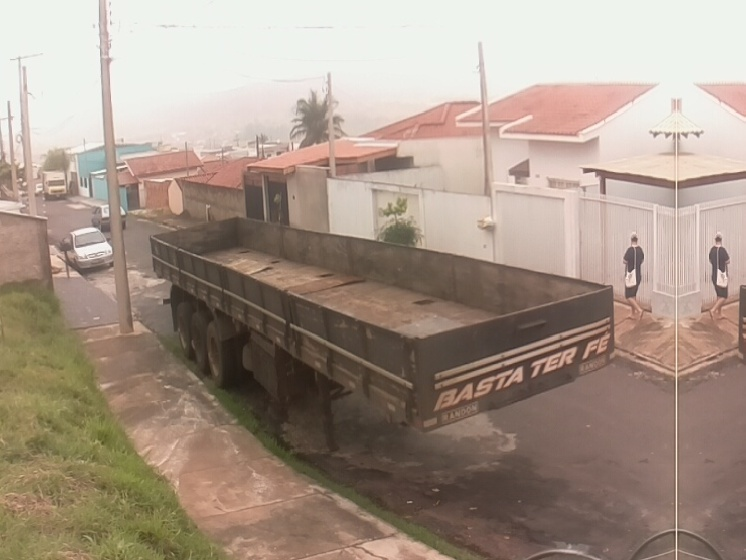person: (620, 233, 647, 323), (707, 231, 733, 323)
